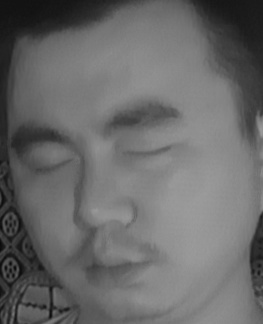blink: (121, 132, 185, 168), (25, 144, 75, 183)
mouth: (74, 240, 153, 297)
